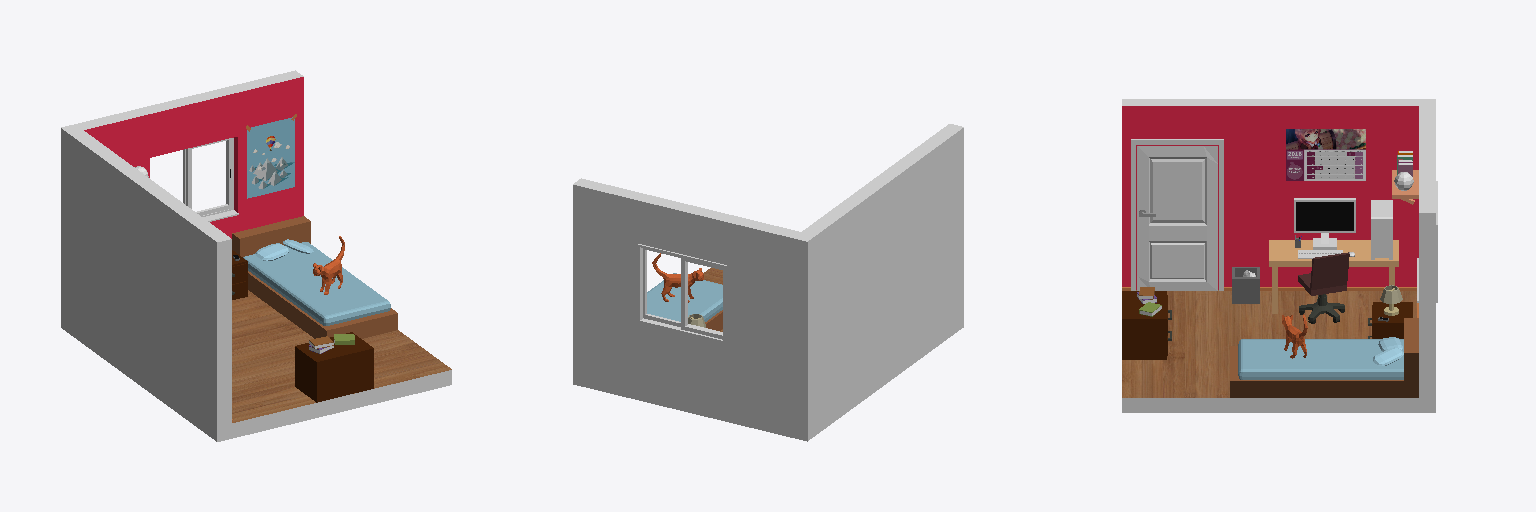
The picture shows the model from 3 angles: view 1: azimuth 30°, elevation 25°; view 2: azimuth 150°, elevation 25°; view 3: azimuth 270°, elevation 25°; orthographic projection.
Visible parts, largest first — view 1: Cube_002_UberTexture_0_1, Cube_002_Floor_0_1; view 2: Cube_002_UberTexture_0_1; view 3: Cube_002_UberTexture_0_1, Cube_002_Floor_0_1.
Part boxes in pixels (x1,y1,x2,y2): Cube_002_UberTexture_0_1: (61, 70, 451, 441); Cube_002_Floor_0_1: (232, 290, 451, 422); Cube_002_UberTexture_0_1: (573, 124, 963, 441); Cube_002_UberTexture_0_1: (1122, 99, 1437, 412); Cube_002_Floor_0_1: (1122, 290, 1416, 397).
Bounding box in the file's own units: 369 × 300 × 429.
Materials: 3 (2 with a texture image).